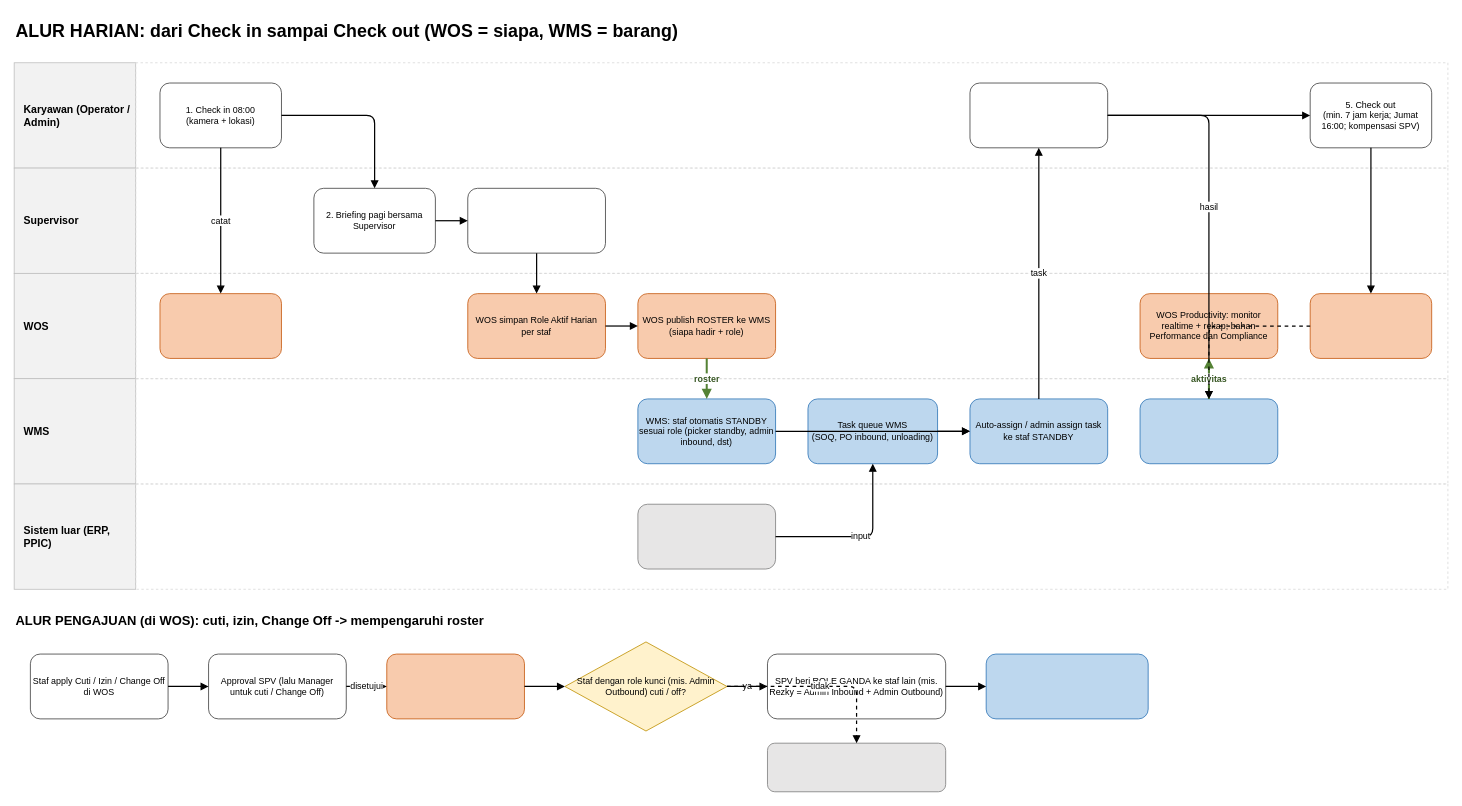
This 1462x806 diagram has some shape labels left out. Each missing label, with the centre of its shape:
3. SPV alokasi role harian di WOS (contoh: Rezky = Admin Inbound; boleh ganda): the point at 536,220
4. Kerjakan task: picking / unloading / GR / put away / loading: the point at 1038,115
ERP (PO inbound, master item) + PPIC (posting SOQ): the point at 706,536
Roster di WMS ikut berubah otomatis: the point at 1066,686
Tidak: roster tetap: the point at 856,767
WMS catat aktivitas: siapa, apa, berapa, durasi: the point at 1208,431
WOS catat check out; WMS hentikan status standby: the point at 1370,325
WOS catat kehadiran (jam masuk dihitung mulai 08:00): the point at 220,325
WOS update status cuti / off staf: the point at 455,686
